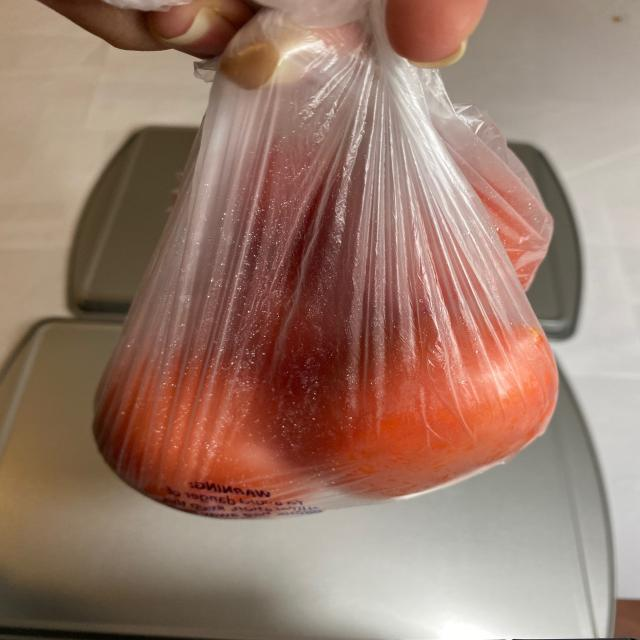tomato: (82, 128, 564, 514)
